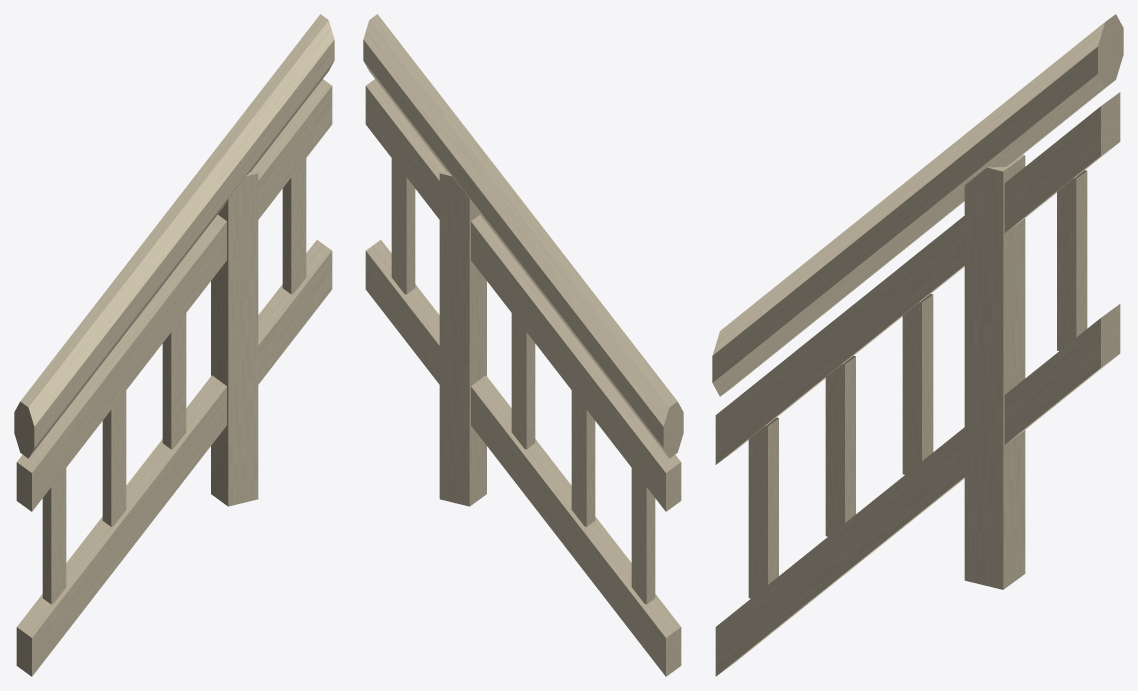
The model's file is mid_pos.obj.
3 views of the same model, side by side, from view 1: azimuth 30°, elevation 25°; view 2: azimuth 150°, elevation 25°; view 3: azimuth 330°, elevation 25° (orthographic). The views are drawn at different scales.
Parts seen in each view (by area): view 1: railing_picket_round_beige_mid_pos; view 2: railing_picket_round_beige_mid_pos; view 3: railing_picket_round_beige_mid_pos.
Part boxes in pixels (<box>): railing_picket_round_beige_mid_pos: <box>14,14,334,676</box>; railing_picket_round_beige_mid_pos: <box>363,14,683,676</box>; railing_picket_round_beige_mid_pos: <box>712,14,1123,676</box>.
Size of the model in its own units: 1 by 1.85 by 0.1155.
